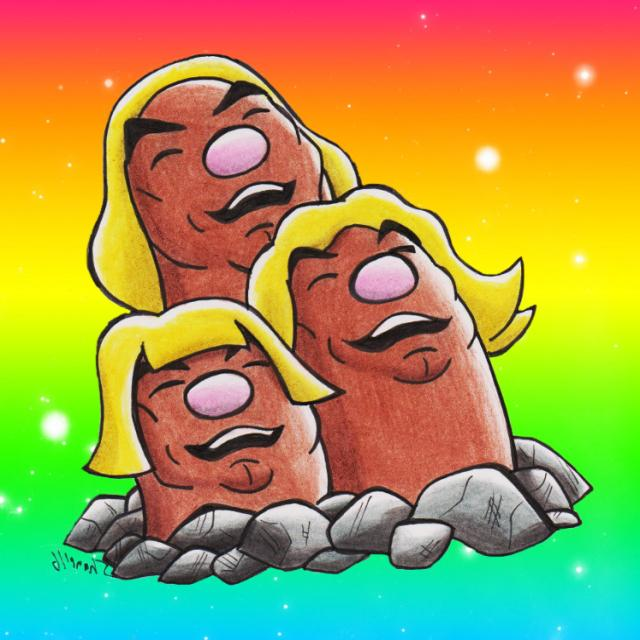Dugtrio: (100, 52, 518, 540)
